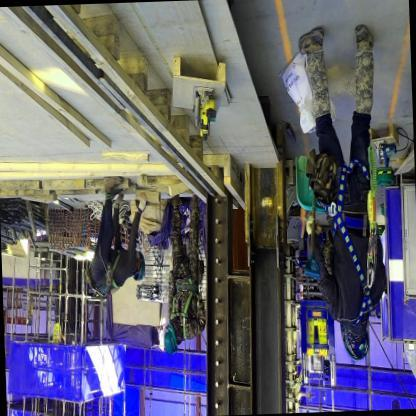safety-shoe: (291, 20, 332, 70), (353, 17, 381, 69)
